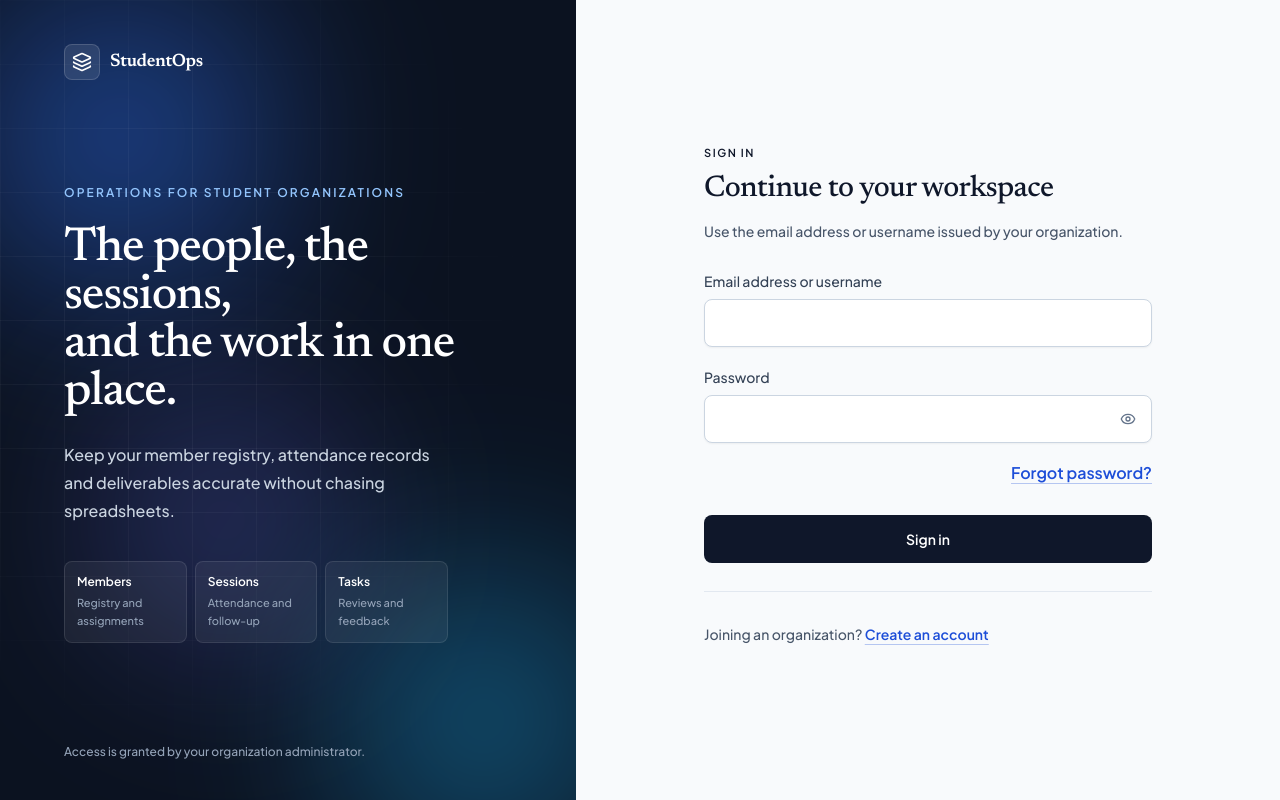
Test: Login › rejects a malformed email that still contains an at sign
The width and height of the screenshot is (1280, 800).
Type "member@example" into the field labelled "Email address or username". click: [928, 322]
box: [704,298,1152,346]
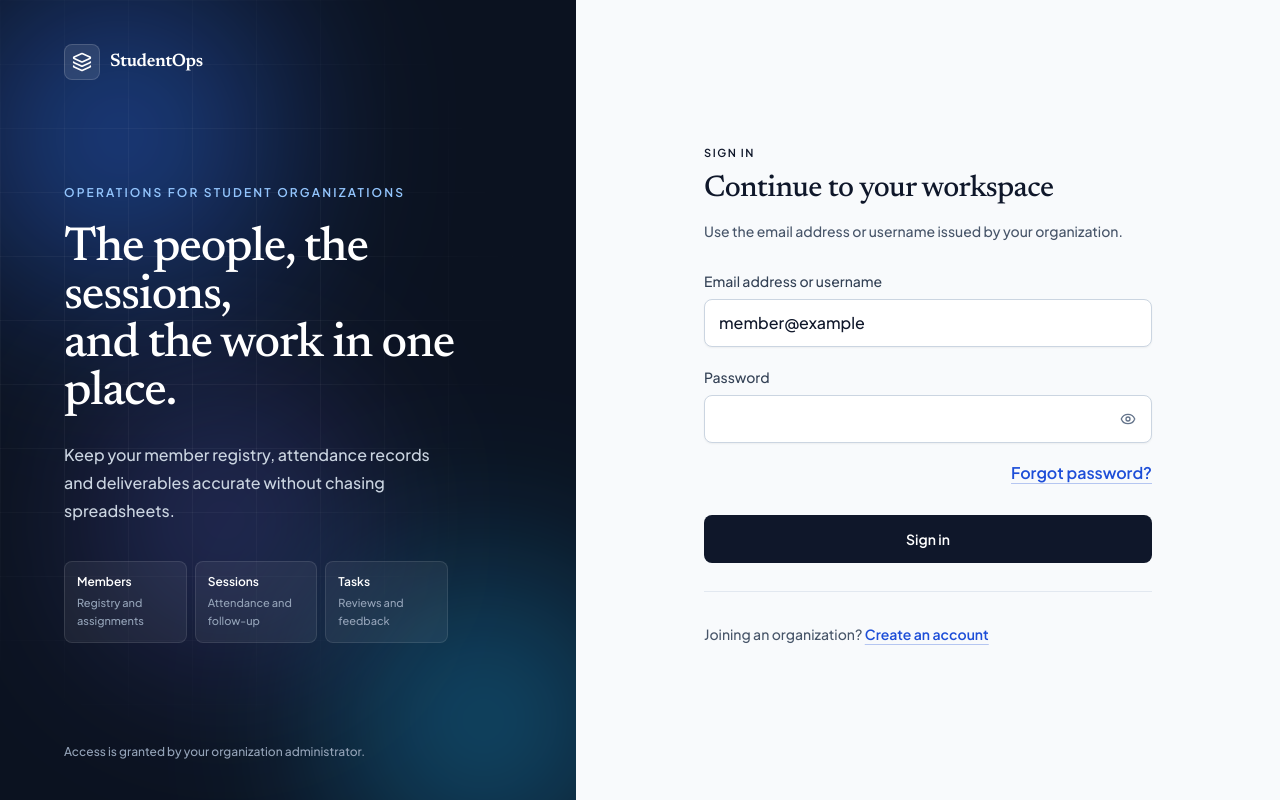
Type "secret pass" into the password field labelled "Password". click: [928, 418]
box: [704,394,1152,442]
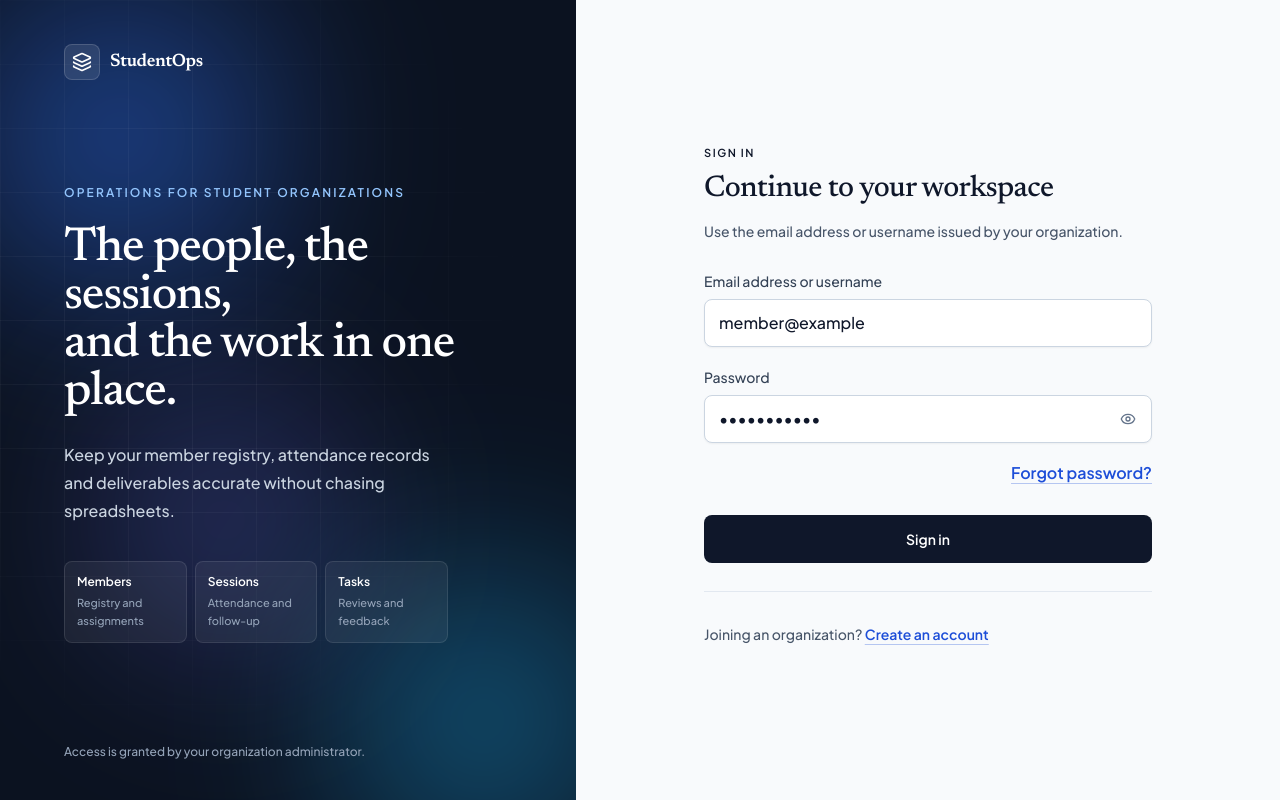
Click the button "Sign in". click: [928, 538]
box: [704,514,1152,562]
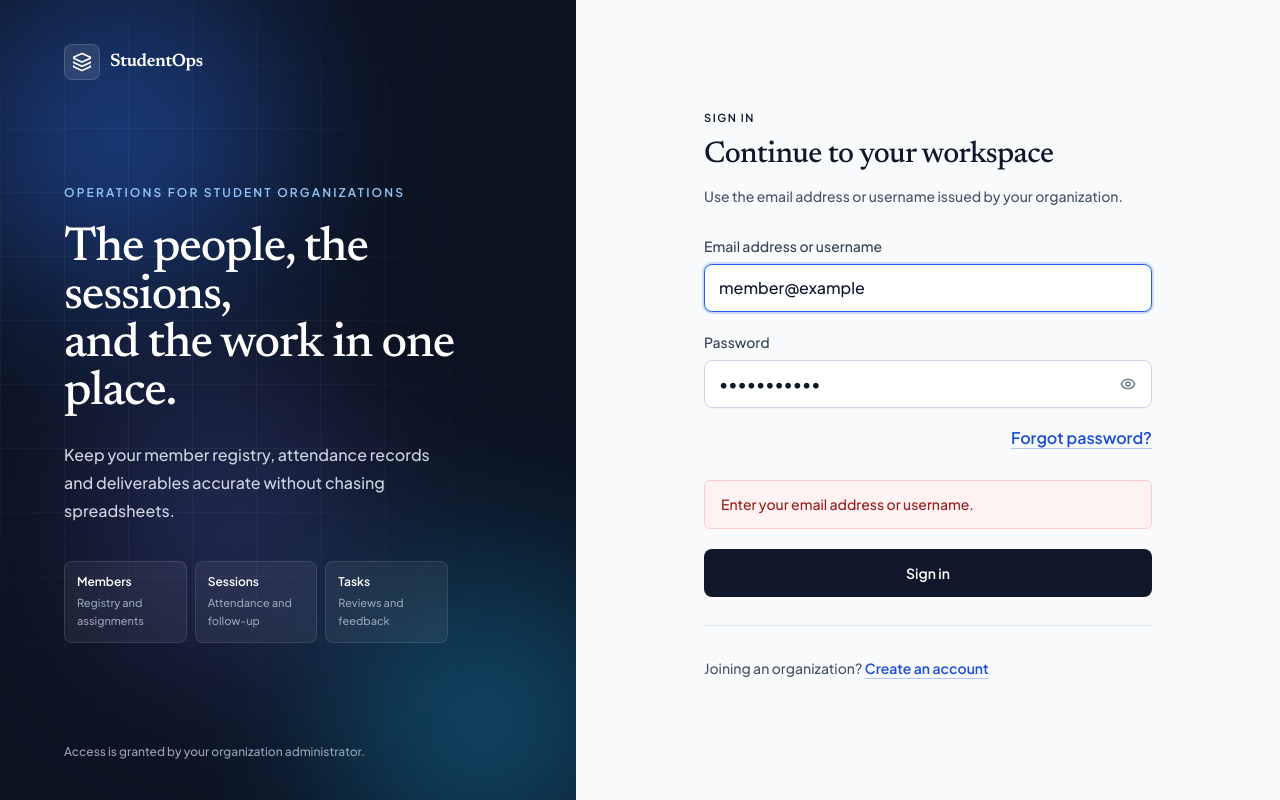
Result: the message reads "Enter your email address or username." at [721,495,974,513]
